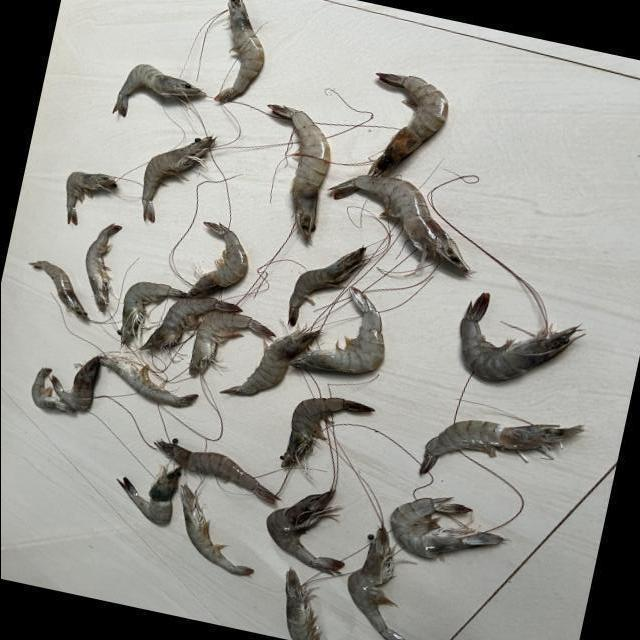shrimp: (331, 175, 474, 274), (460, 293, 581, 380), (419, 421, 584, 475), (267, 104, 329, 242), (368, 72, 447, 176), (289, 287, 383, 373), (153, 441, 279, 505), (389, 498, 508, 559), (179, 485, 252, 577), (279, 399, 373, 469), (265, 492, 343, 576), (219, 331, 319, 395), (140, 136, 213, 222), (347, 528, 403, 640), (287, 247, 365, 327), (187, 312, 275, 377), (138, 298, 240, 351), (98, 355, 196, 408), (213, 0, 263, 103), (111, 64, 204, 116), (186, 222, 247, 297), (116, 282, 186, 345), (116, 467, 180, 526), (26, 261, 88, 321), (84, 224, 120, 312), (49, 356, 99, 412), (64, 172, 116, 225), (284, 570, 319, 640), (30, 368, 72, 414)
